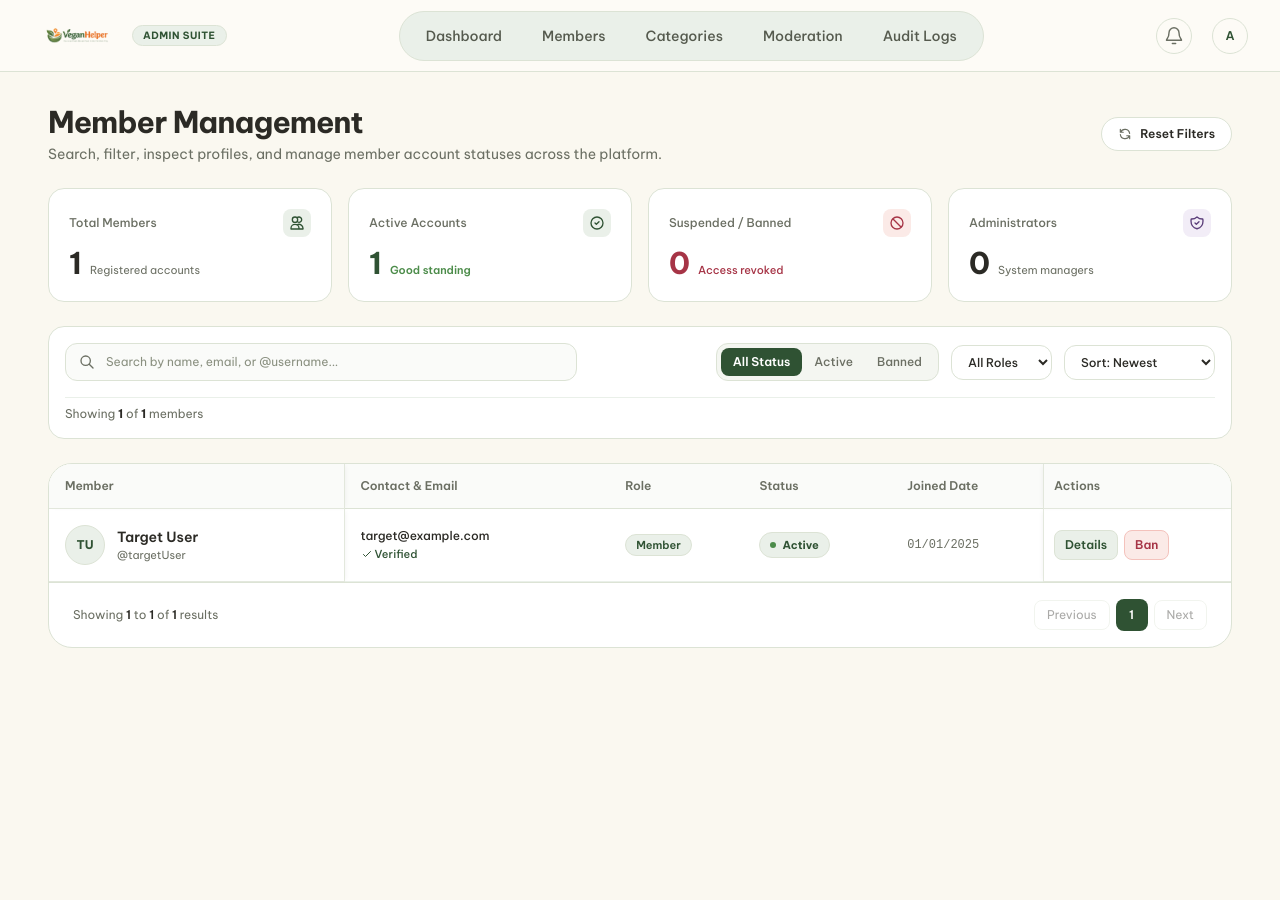
Test case: Admin Ban Flow in AdminMemberManagement › opens member details modal without Diet Preference and without user profile link
The image size is (1280, 900).
Click the button "Details" at (1086, 545), box [1054,530,1118,560]
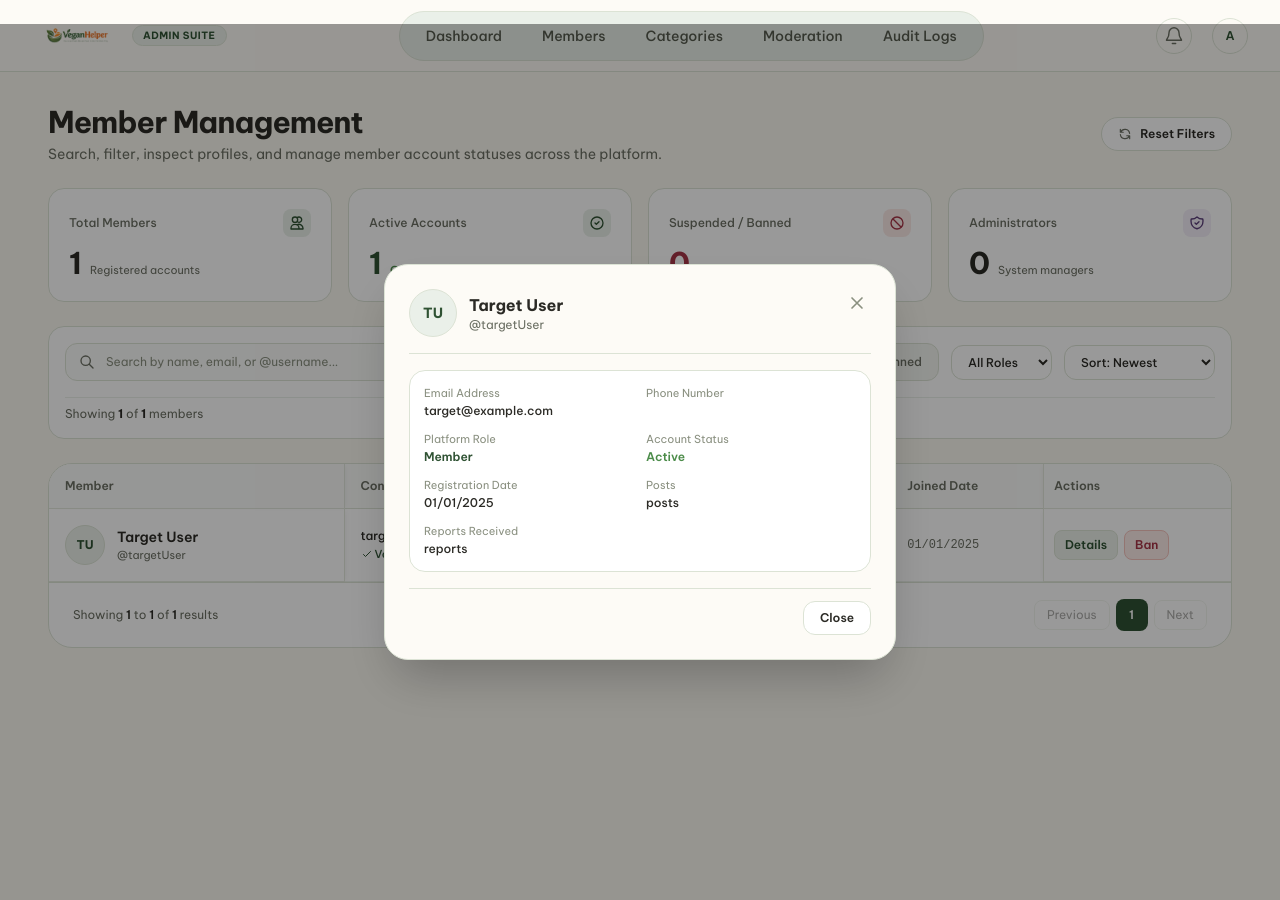
Check: the text "target@example.com" is shown, box [360,528,489,543]
Check: the text "Platform Role" is shown, box [424,432,496,446]
